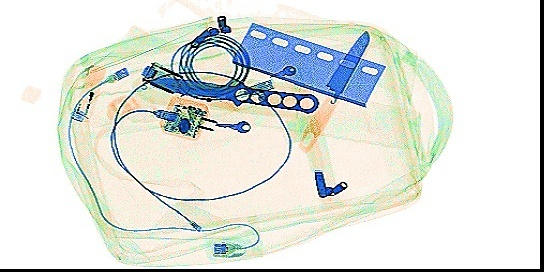knife: (295, 26, 371, 155), (144, 75, 320, 114)
lighter: (68, 60, 106, 122)
